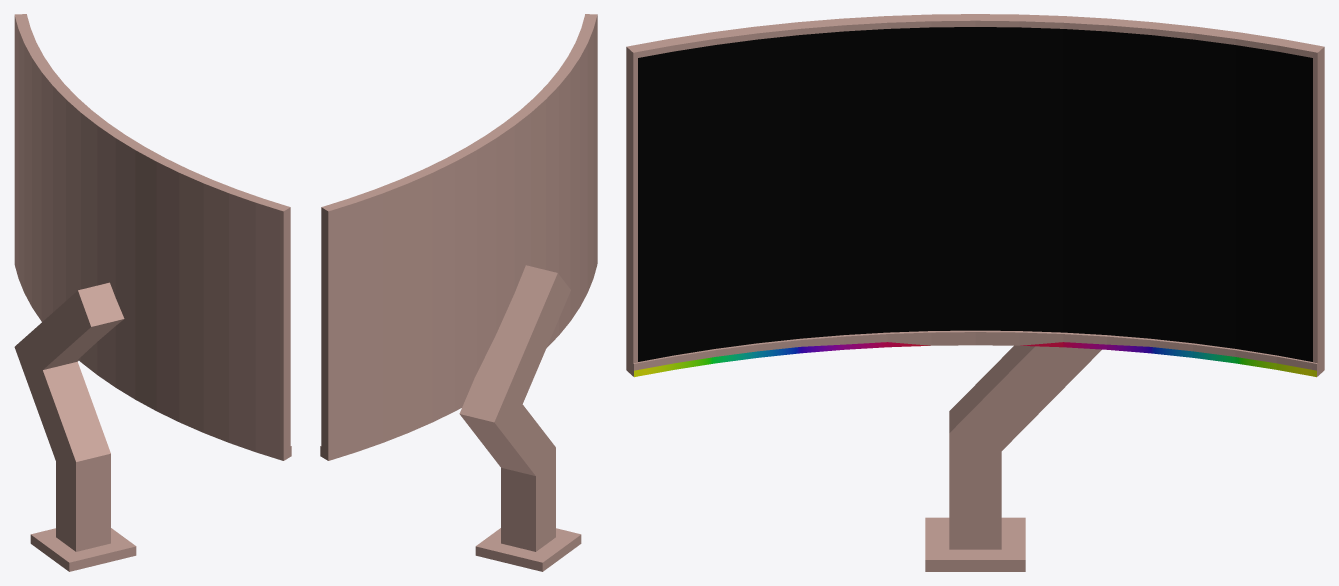
File: monitorWhite.fbx
3 renders of one model, left to right at view 1: azimuth 30°, elevation 25°; view 2: azimuth 150°, elevation 25°; view 3: azimuth 270°, elevation 25°, orthographic. The views are drawn at different scales.
Visible parts, largest first — view 1: Frame, Leg; view 2: Frame, Leg; view 3: Screen, Frame, Leg.
Boxes of the visible parts, box(x1,y1,x2,y2) form: Frame: box(14, 14, 291, 460); Leg: box(14, 282, 136, 571); Frame: box(320, 14, 597, 460); Leg: box(459, 265, 581, 571); Screen: box(638, 27, 1312, 361); Frame: box(626, 14, 1324, 377); Leg: box(925, 345, 1101, 571).
Size of the model in its own units: 0.9218 by 3.91 by 3.37.
